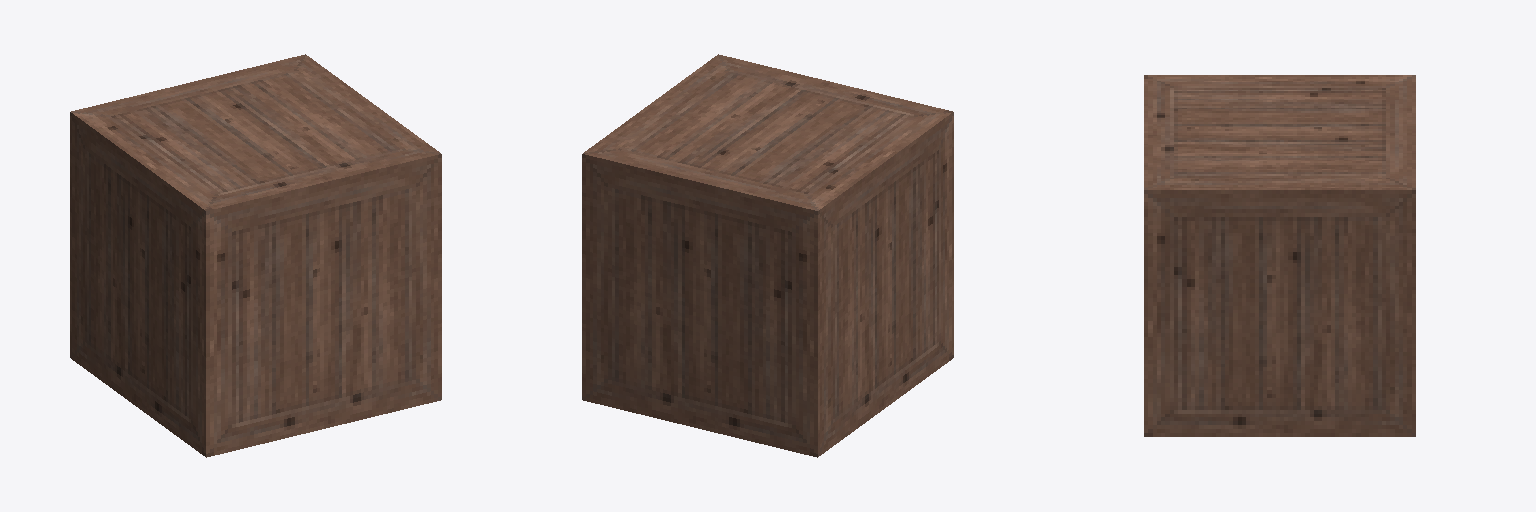
3 views of the same model, side by side, from view 1: azimuth 30°, elevation 25°; view 2: azimuth 150°, elevation 25°; view 3: azimuth 270°, elevation 25° (orthographic).
Visible parts, largest first — view 1: Cube; view 2: Cube; view 3: Cube.
Part boxes in pixels (left/top/right/bottom): Cube: left=70, top=54, right=441, bottom=457; Cube: left=582, top=54, right=953, bottom=457; Cube: left=1144, top=75, right=1415, bottom=436.
Size of the model in its own units: 2 by 2 by 2.
1 materials, 1 textured.